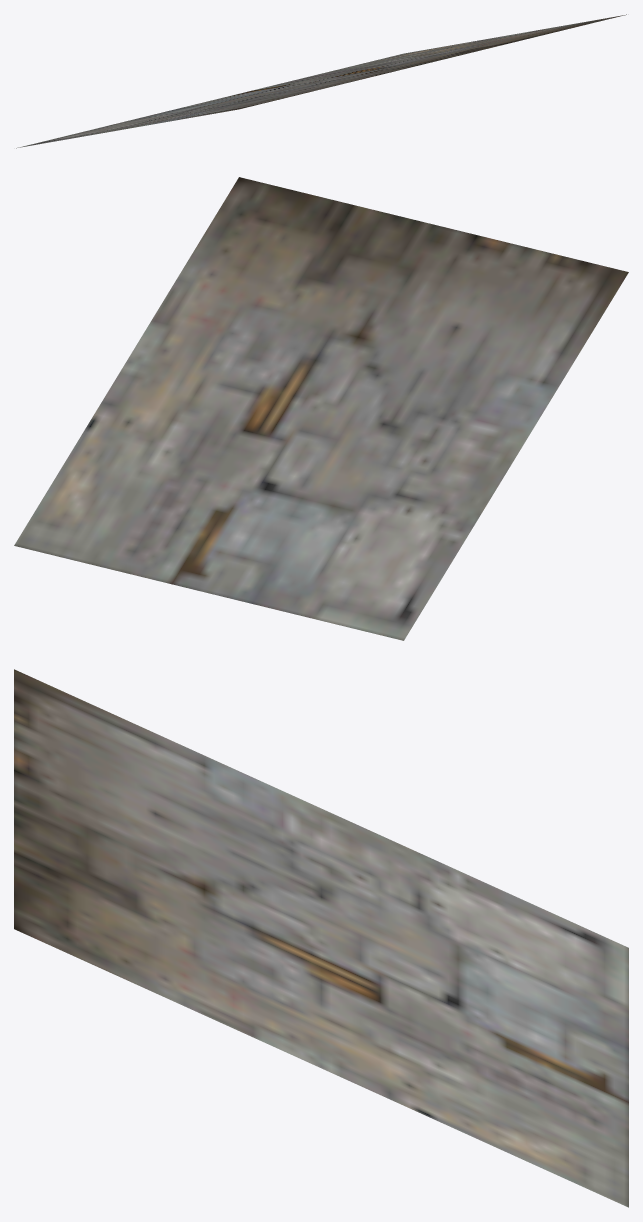
Rendered from Schlucht8x8_Schräg_2406.glb.
3 renders of one model, top to bottom at view 1: azimuth 30°, elevation 25°; view 2: azimuth 150°, elevation 25°; view 3: azimuth 270°, elevation 25°, orthographic. The views are drawn at different scales.
Parts seen in each view (by area): view 1: pPlaneShape180; view 2: pPlaneShape180; view 3: pPlaneShape180.
Part boxes in pixels (x1,y1,x2,y2): pPlaneShape180: [16, 14, 626, 148]; pPlaneShape180: [14, 177, 628, 640]; pPlaneShape180: [14, 669, 628, 1207].
Size of the model in its own units: 2 by 1 by 2.
1 material, 1 textured.
